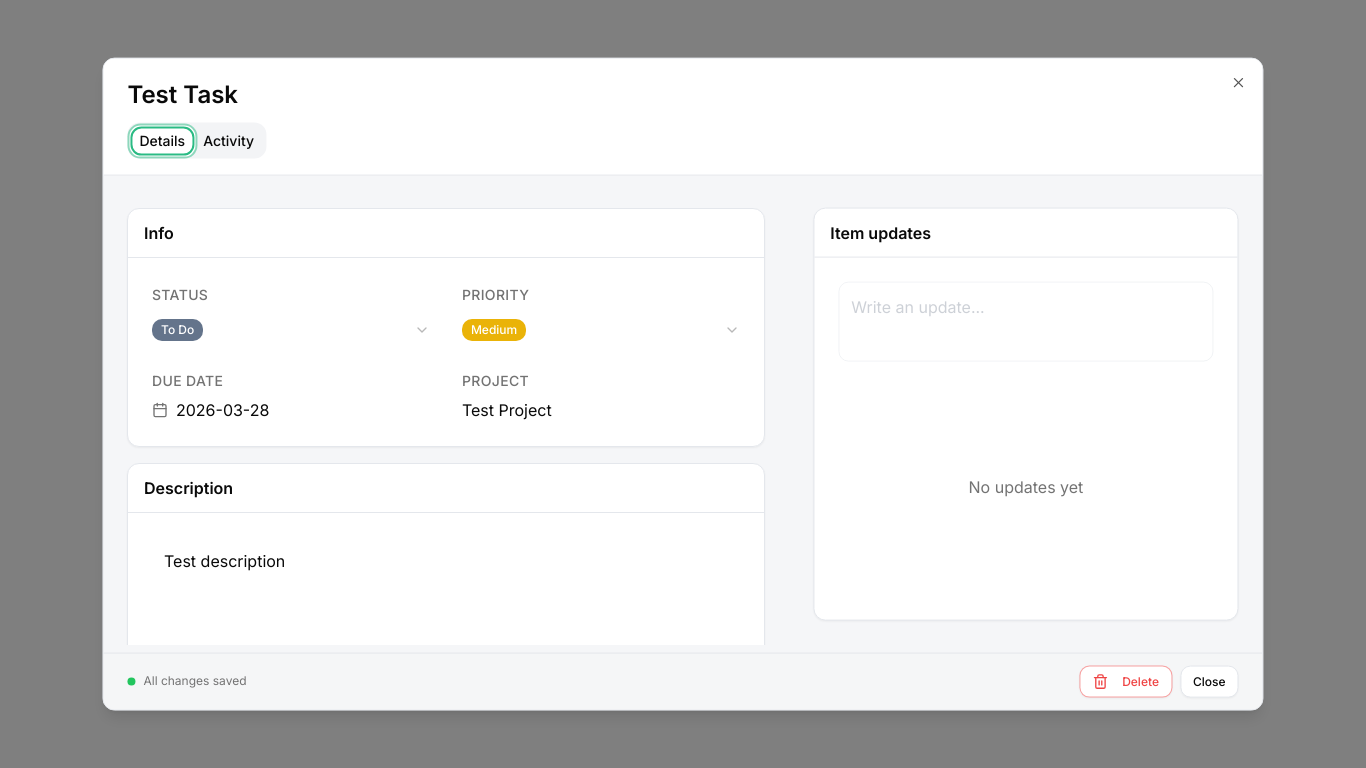
Test case: KanbanDetailModal › title editing › reverts title on Escape
The image size is (1366, 768).
Click the heading "Test Task" at (183, 94), box 128,80 -> 238,109
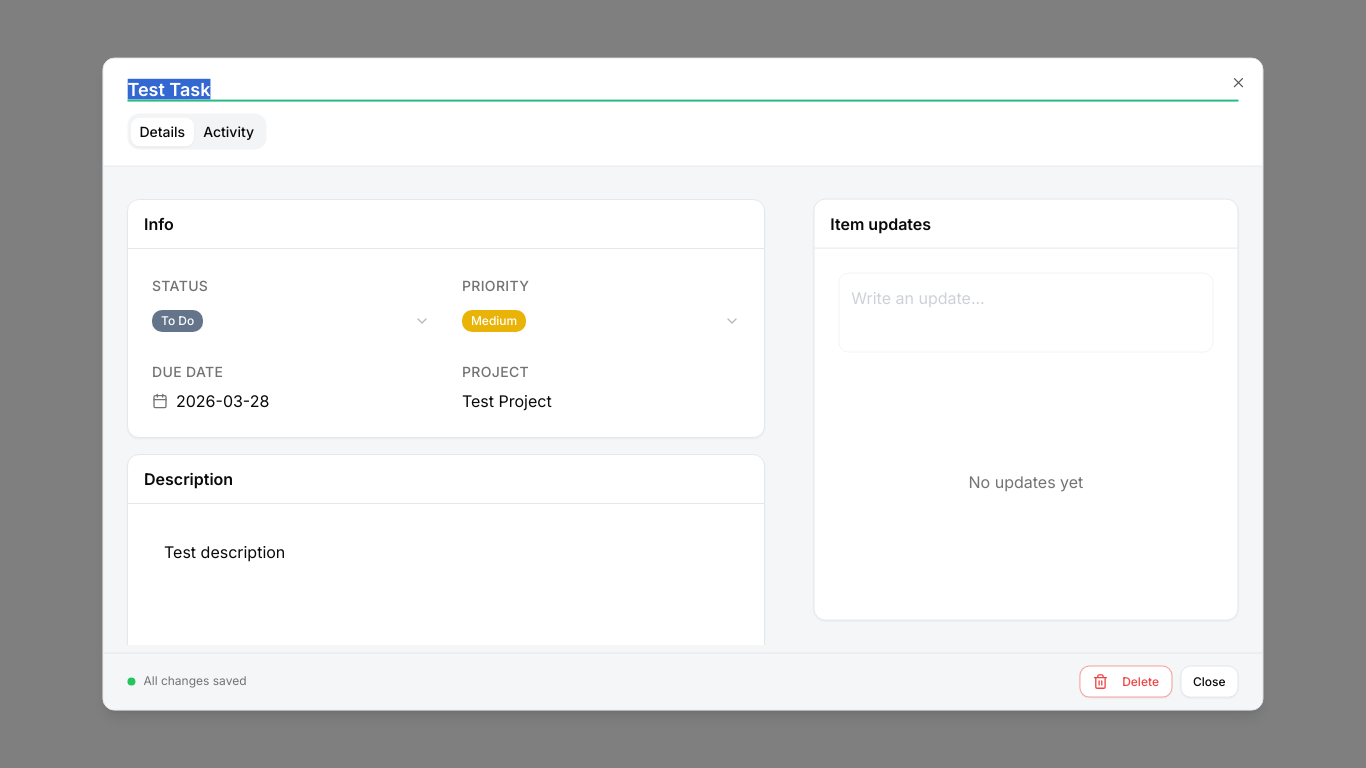
Replace the text in the field showing "Test Task" with "Changed" at (683, 90), box 128,79 -> 1239,102
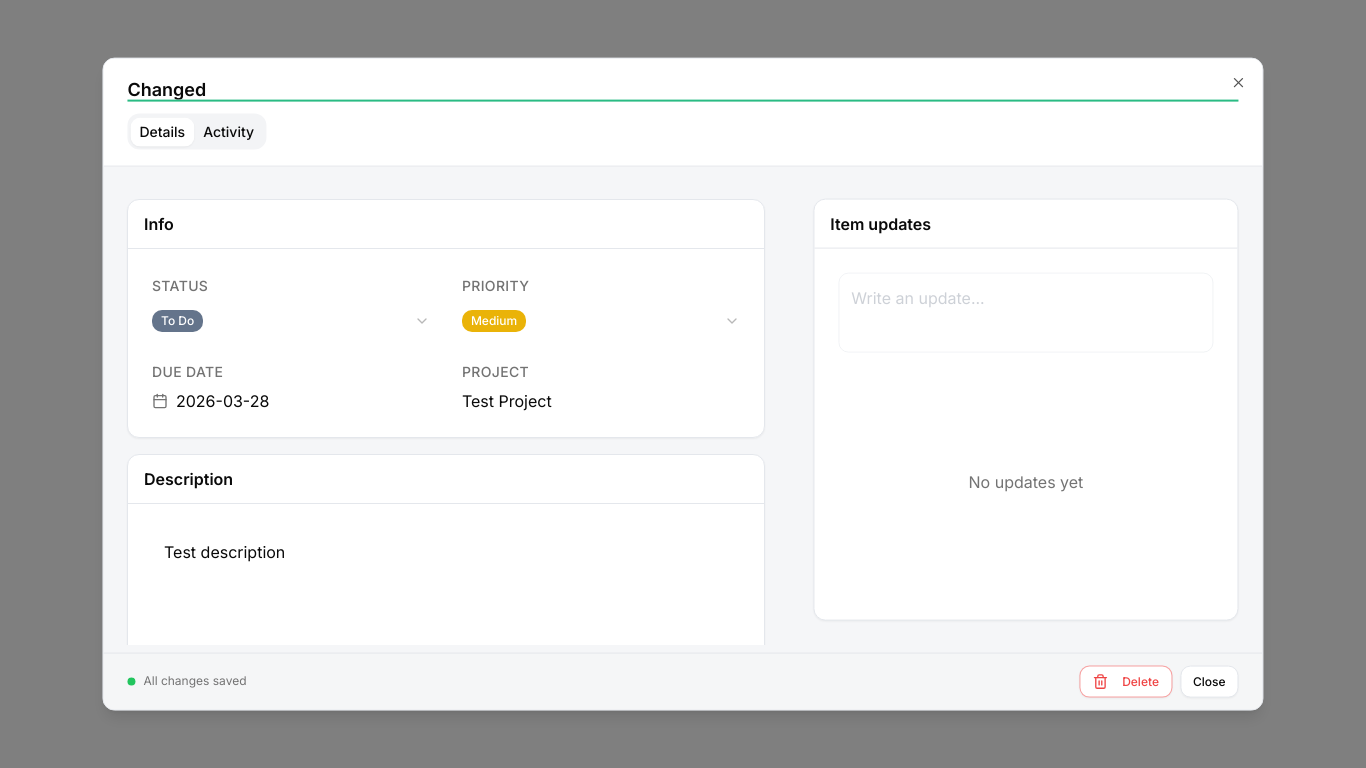
Press Escape
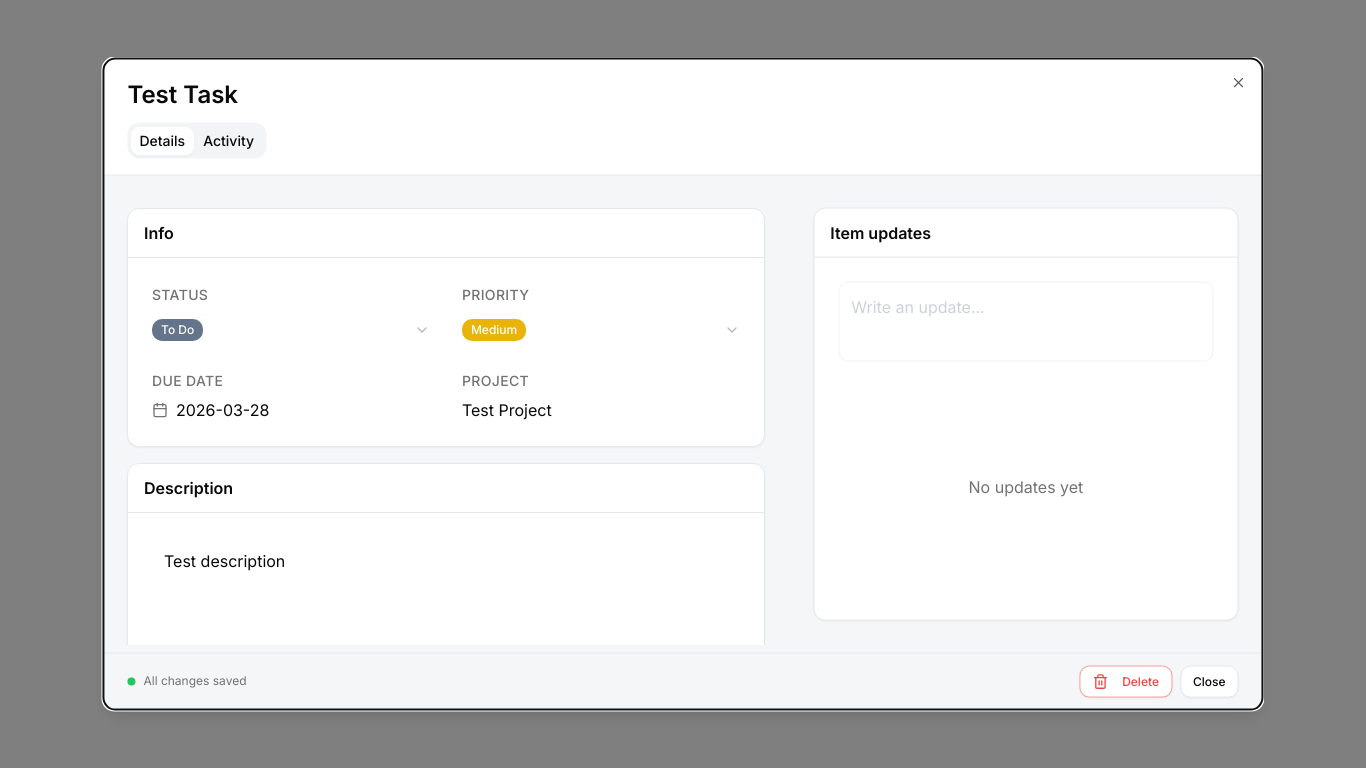
Expected: the field showing "Changed" is not shown
Result: the heading "Test Task" is shown at 128,80 -> 238,109
